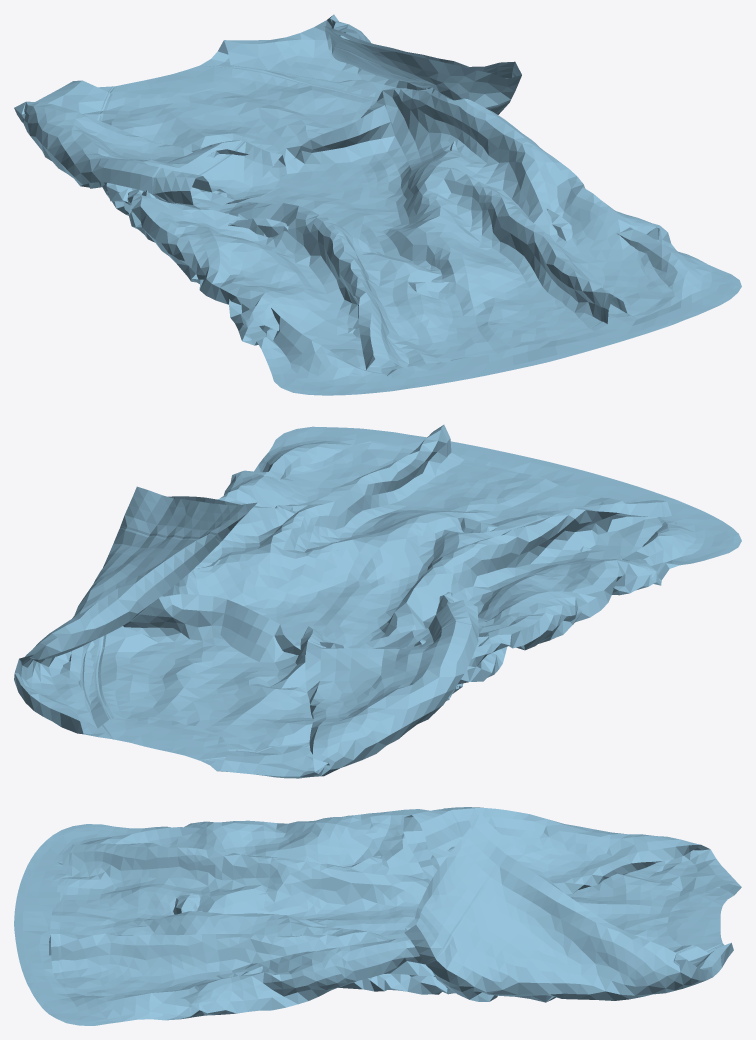
File: frame_16.glb
3 views of the same model, one above another, from view 1: azimuth 30°, elevation 25°; view 2: azimuth 150°, elevation 25°; view 3: azimuth 270°, elevation 25° (orthographic). The views are drawn at different scales.
Visible parts, largest first — view 1: frame_16.obj; view 2: frame_16.obj; view 3: frame_16.obj.
Boxes of the visible parts, x1,y1,x2,y2 form: frame_16.obj: (14, 14, 741, 395); frame_16.obj: (14, 424, 741, 778); frame_16.obj: (14, 807, 741, 1025).
Bounding box in the file's own units: 1.19 × 0.3727 × 1.81.
